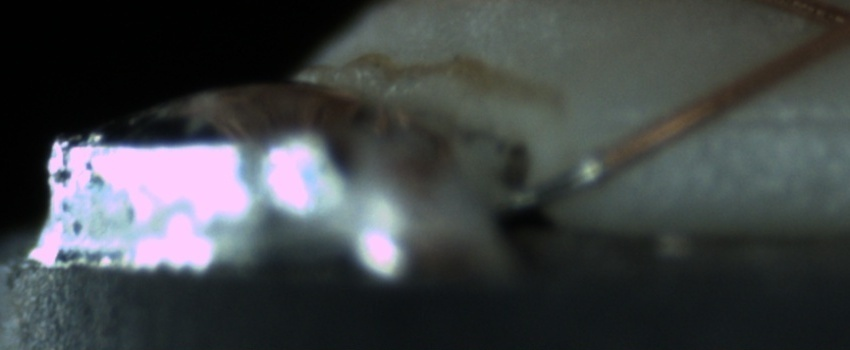CL: (780, 0, 849, 62)
DL: (693, 86, 849, 151)
TB: (566, 151, 607, 193)
TS: (503, 154, 605, 210)
TTCW: (508, 129, 651, 211)
